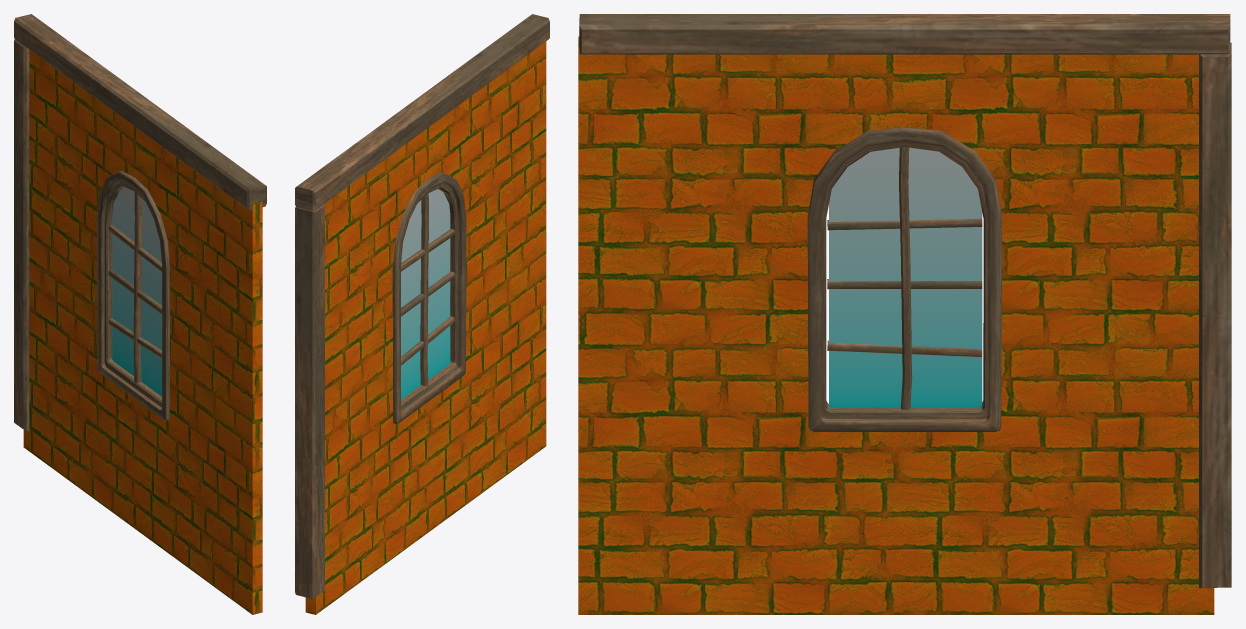
Rendered from SM_wall_07.fbx.
3 views of the same model, side by side, from view 1: azimuth 30°, elevation 25°; view 2: azimuth 150°, elevation 25°; view 3: azimuth 270°, elevation 25° (orthographic). The views are drawn at different scales.
Visible parts, largest first — view 1: SM_wall_07_LOD0; view 2: SM_wall_07_LOD0; view 3: SM_wall_07_LOD0.
Part boxes in pixels (left/top/right/bottom): SM_wall_07_LOD0: left=14, top=14, right=266, bottom=614; SM_wall_07_LOD0: left=295, top=14, right=549, bottom=614; SM_wall_07_LOD0: left=578, top=14, right=1231, bottom=614.
Size of the model in its own units: 20 by 400 by 400.
